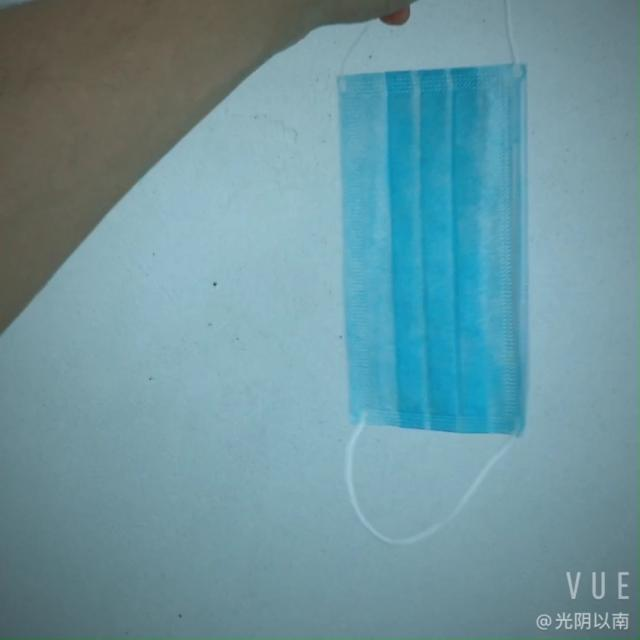face mask: (327, 41, 548, 473)
